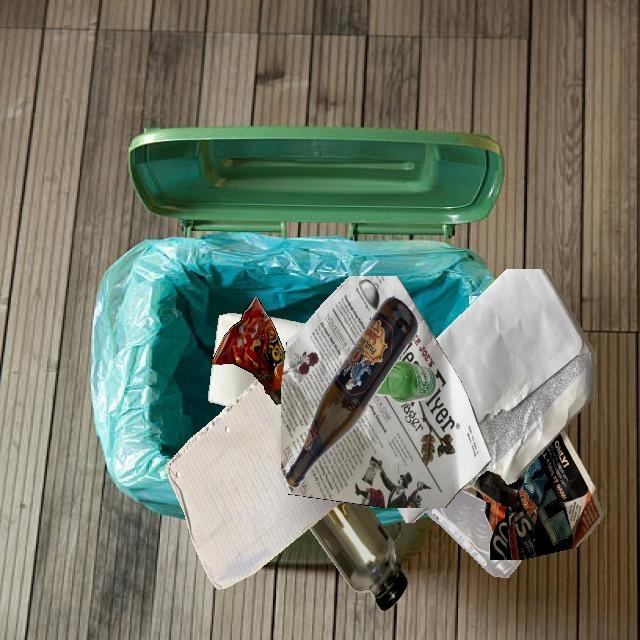glass: (286, 297, 418, 488), (309, 502, 408, 612), (375, 361, 437, 403)
paper: (281, 276, 491, 508), (165, 378, 341, 589), (436, 269, 595, 489), (461, 429, 603, 560), (213, 325, 274, 373), (208, 364, 242, 406), (304, 323, 306, 324)
plastic: (426, 490, 521, 578)
trash: (211, 297, 285, 404)
